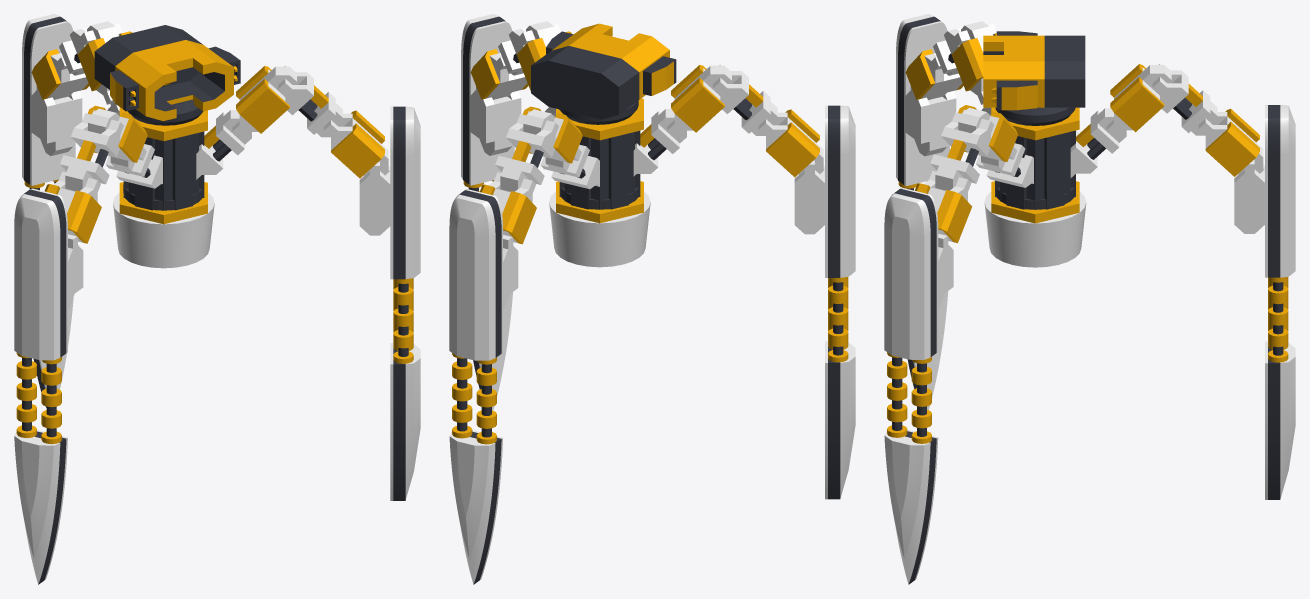
File: SpiderBoss.fbx
3 renders of one model, left to right at view 1: azimuth 30°, elevation 25°; view 2: azimuth 150°, elevation 25°; view 3: azimuth 270°, elevation 25°, orthographic.
Parts seen in each view (by area): view 1: hull_back (×3), leg_cover (×6), hull_frontSmooth (×2), leg_pipes (×5), engine_low, clipBarrel_large, leg_default (×3), engine_round, tube_steel (×3), weapon_turretSmall, detail_tire; view 2: hull_back (×3), leg_cover (×6), hull_frontSmooth (×3), leg_pipes (×5), engine_low, clipBarrel_large, leg_default (×3), engine_round, tube_steel (×3), weapon_turretSmall, detail_tire; view 3: hull_back (×3), leg_cover (×6), hull_frontSmooth (×3), leg_pipes (×5), engine_low, clipBarrel_large, leg_default (×3), engine_round, tube_steel (×3), weapon_turretSmall, detail_tire.
Part boxes in pixels (x1,y1,x2,y2): hull_back (×3): (14,14,420,360); leg_cover (×6): (31,21,388,243); hull_frontSmooth (×2): (14,343,420,584); leg_pipes (×5): (59,24,342,191); engine_low: (94,25,233,121); clipBarrel_large: (119,107,207,224); leg_default (×3): (31,86,390,307); engine_round: (113,184,214,268); tube_steel (×3): (16,278,413,444); weapon_turretSmall: (110,70,138,111); detail_tire: (127,99,203,125); hull_back (×3): (449,14,855,360); leg_cover (×6): (470,21,823,244); hull_frontSmooth (×3): (449,292,855,584); leg_pipes (×5): (495,24,777,192); engine_low: (531,23,669,119); clipBarrel_large: (556,98,643,223); leg_default (×3): (470,86,824,308); engine_round: (549,187,650,267); tube_steel (×3): (452,277,848,444); weapon_turretSmall: (643,56,676,95); detail_tire: (559,100,638,124); hull_back (×3): (884,14,1295,359); leg_cover (×6): (905,21,1263,243); hull_frontSmooth (×3): (884,291,1295,584); leg_pipes (×5): (930,24,1217,190); engine_low: (983,35,1085,107); clipBarrel_large: (991,107,1079,223); leg_default (×3): (905,86,1264,307); engine_round: (984,187,1086,267); tube_steel (×3): (887,277,1288,443); weapon_turretSmall: (991,80,1037,110); detail_tire: (995,107,1075,125).
Size of the model in its own units: 44.68 by 48.6 by 40.31.
